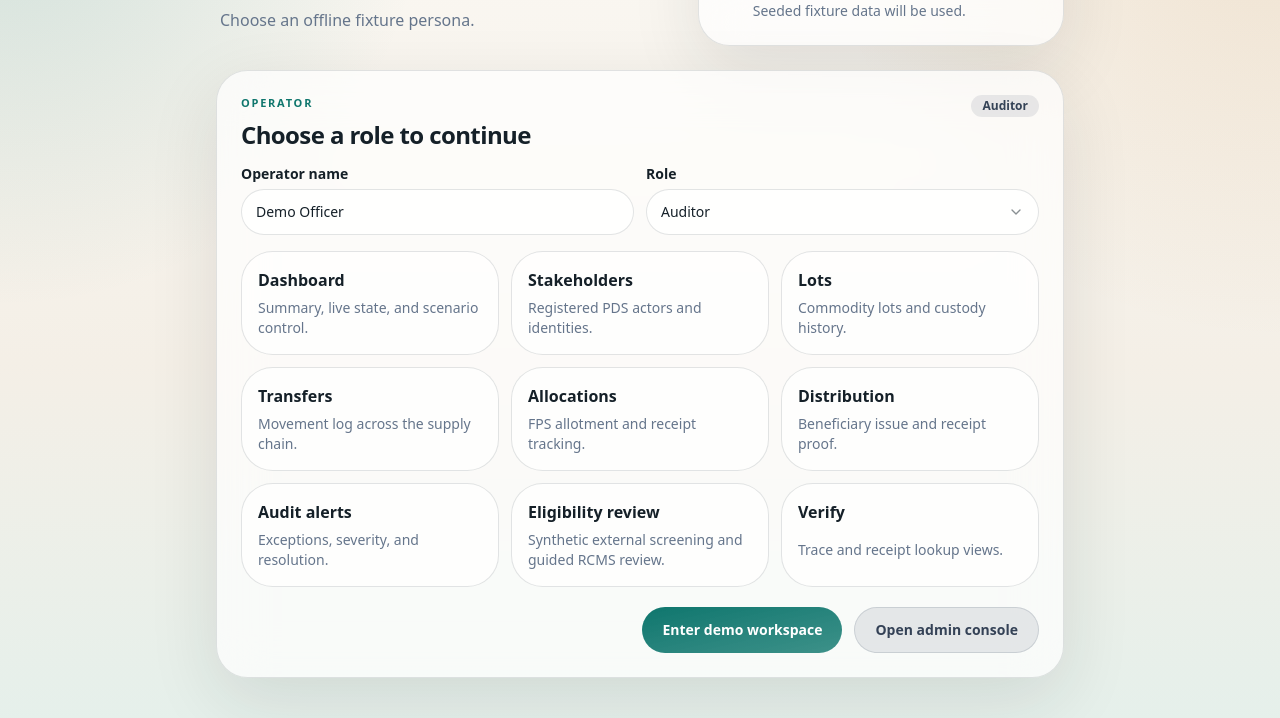
Test case: app shell › filters sidebar navigation by role and active module
(page scrolled)
Click the button "Enter demo workspace": (742, 630) x1=642 y1=607 x2=842 y2=653
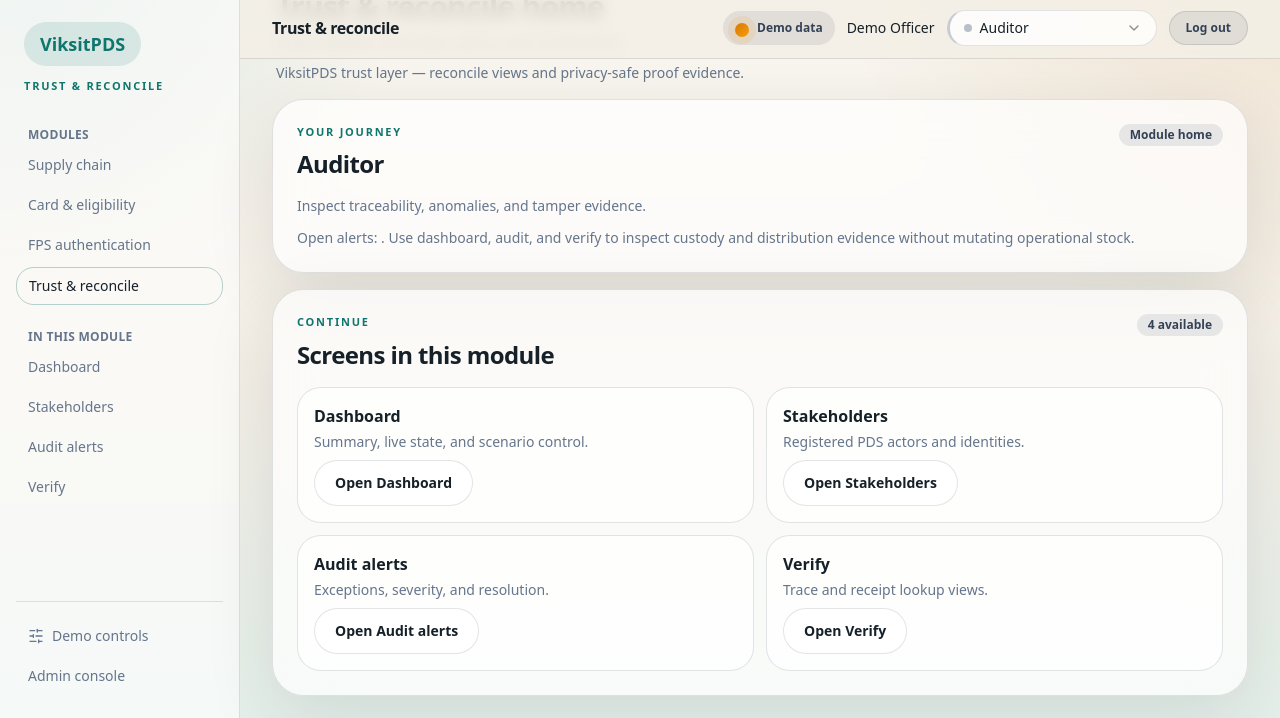
Expected: the link "Trust & reconcile" is shown, x1=16 y1=266 x2=223 y2=304
Expected: the link "Dashboard" is shown, x1=28 y1=356 x2=100 y2=376
Expected: the link "Audit alerts" is shown, x1=28 y1=436 x2=103 y2=456
